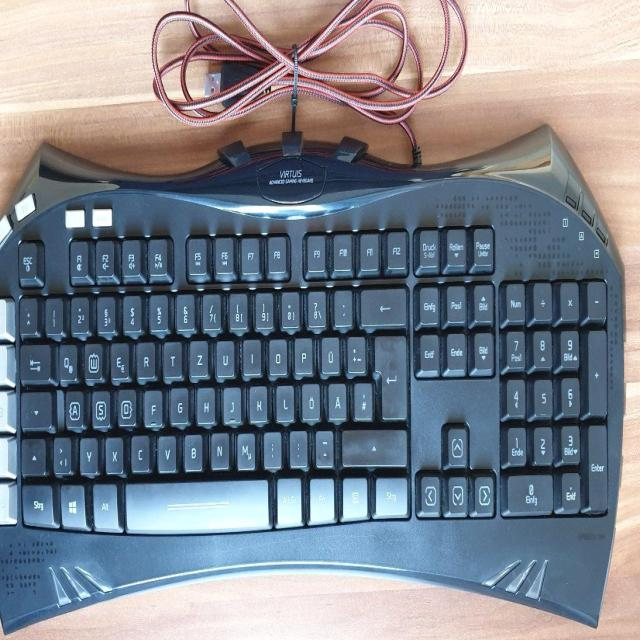0: (278, 285, 299, 325)
1: (43, 292, 62, 332)
2: (69, 291, 88, 331)
3: (95, 290, 114, 331)
4: (121, 290, 141, 329)
5: (147, 289, 167, 328)
6: (173, 288, 194, 328)
7: (200, 288, 220, 327)
8: (226, 287, 247, 328)
9: (253, 286, 273, 326)
a: (63, 384, 82, 425)
accent: (331, 284, 351, 323)
ae: (326, 378, 345, 417)
alt-left: (90, 478, 116, 527)
altgr-right: (273, 471, 301, 523)
b: (181, 428, 202, 468)
c: (128, 430, 148, 469)
caret: (17, 291, 36, 332)
comma: (261, 426, 280, 465)
d: (115, 383, 135, 422)
del: (357, 282, 405, 323)
e: (108, 337, 128, 378)
enter: (370, 329, 406, 417)
f: (142, 385, 161, 424)
g: (168, 381, 187, 421)
h: (195, 381, 215, 421)
hash: (352, 377, 371, 416)
i: (240, 334, 260, 372)
j: (221, 382, 240, 421)
k: (247, 380, 267, 419)
keyboard: (0, 176, 619, 576)
l: (274, 379, 293, 419)
less: (51, 431, 70, 471)
m: (234, 426, 254, 467)
minus: (313, 425, 332, 463)
n: (208, 426, 228, 466)
o: (266, 334, 286, 372)
oe: (299, 378, 319, 417)
p: (292, 333, 311, 372)
plus: (344, 330, 364, 371)
point: (287, 425, 306, 464)
q: (55, 338, 76, 377)
r: (135, 336, 155, 376)
s: (90, 385, 109, 424)
shift-left: (19, 433, 45, 473)
shift-lock: (19, 387, 51, 426)
shift-right: (339, 423, 405, 462)
space: (122, 472, 267, 531)
ss: (304, 284, 325, 325)
strg-left: (20, 479, 53, 524)
strg-right: (372, 472, 408, 514)
t: (161, 337, 180, 375)
tab: (17, 338, 50, 380)
u: (214, 335, 234, 374)
ue: (319, 331, 339, 371)
v: (155, 430, 175, 469)
w: (82, 336, 101, 377)
x: (104, 432, 123, 470)
y: (78, 433, 97, 471)
z: (188, 335, 207, 374)
